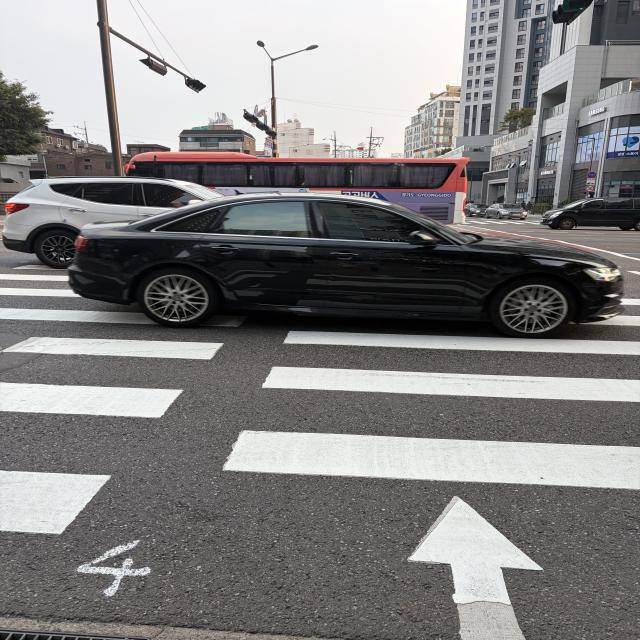car: (55, 182, 640, 364), (6, 162, 278, 280)
